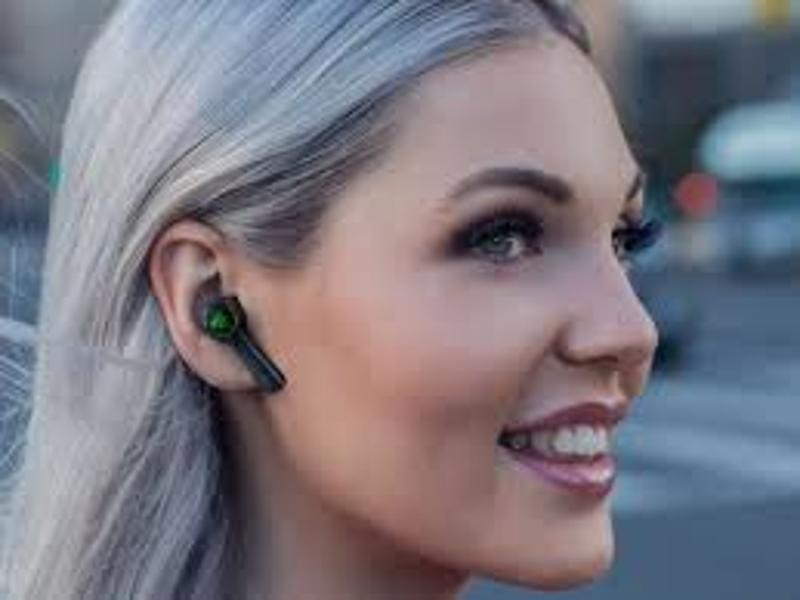headphone: (202, 292, 295, 389)
